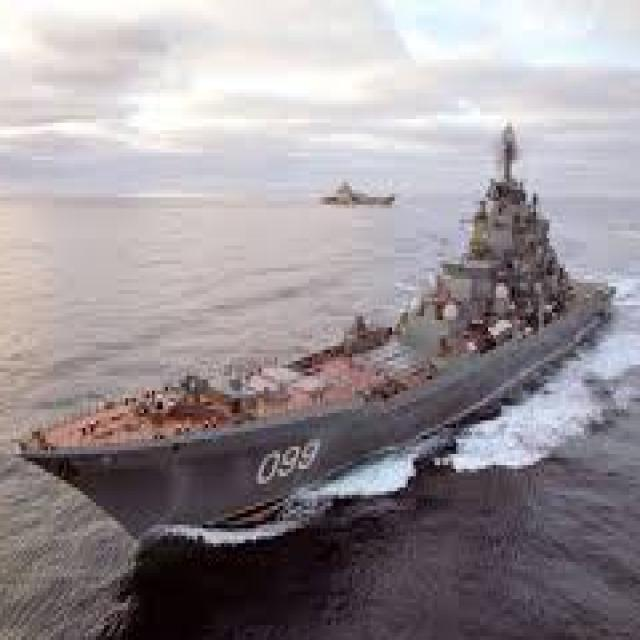island: (305, 161, 402, 221)
navalvessels: (2, 119, 640, 584)
